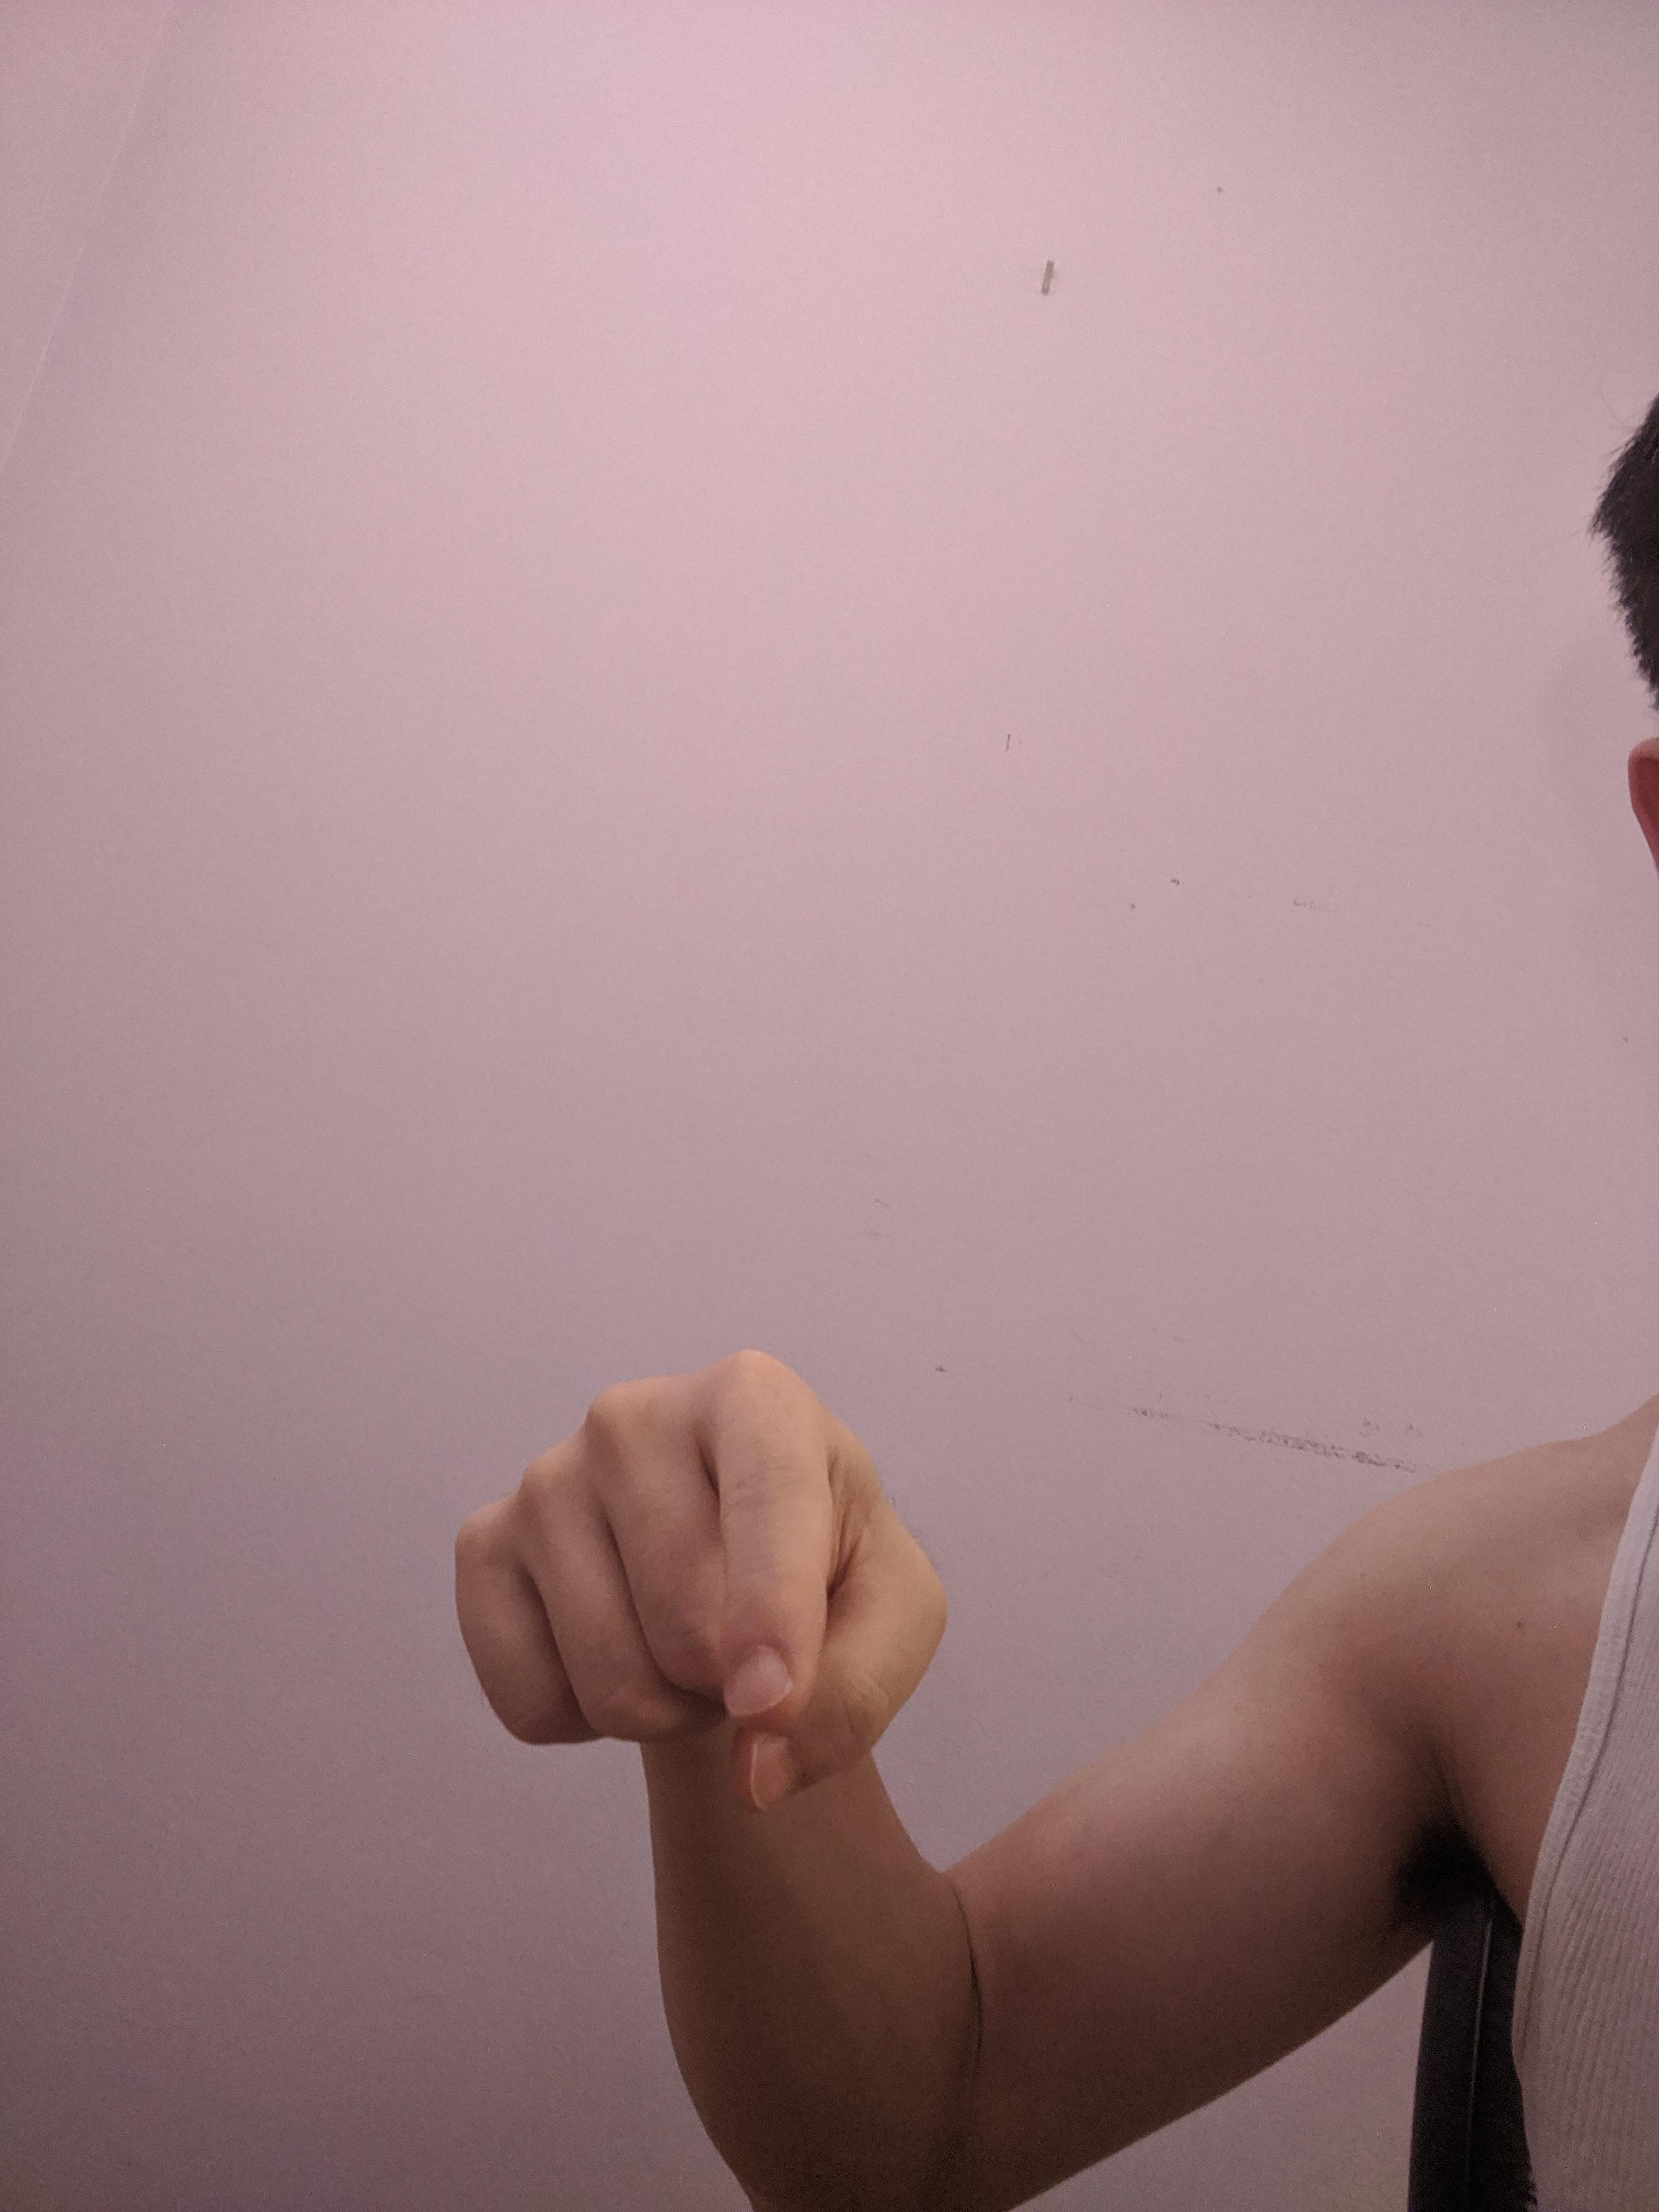Z: (437, 1341, 965, 1827)
